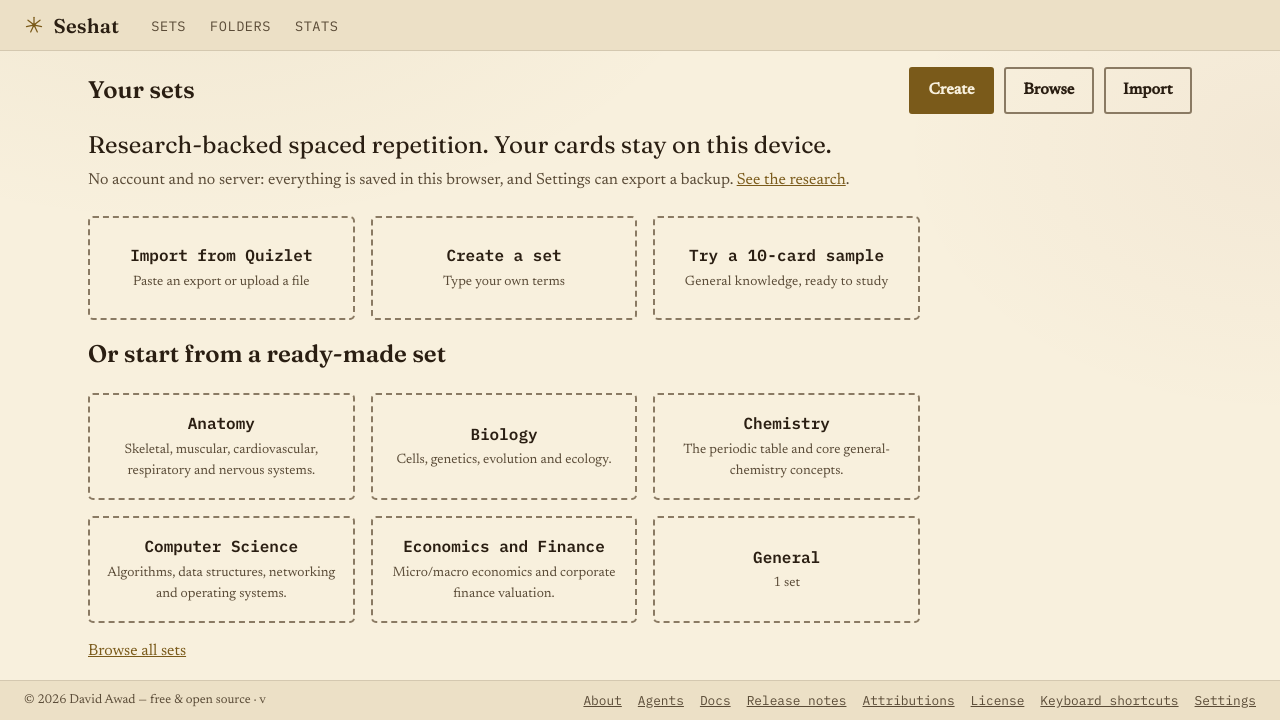
Test case: command palette › Enter navigates to the top match and closes the palette
Type keys "{Control>}k{/Control}"
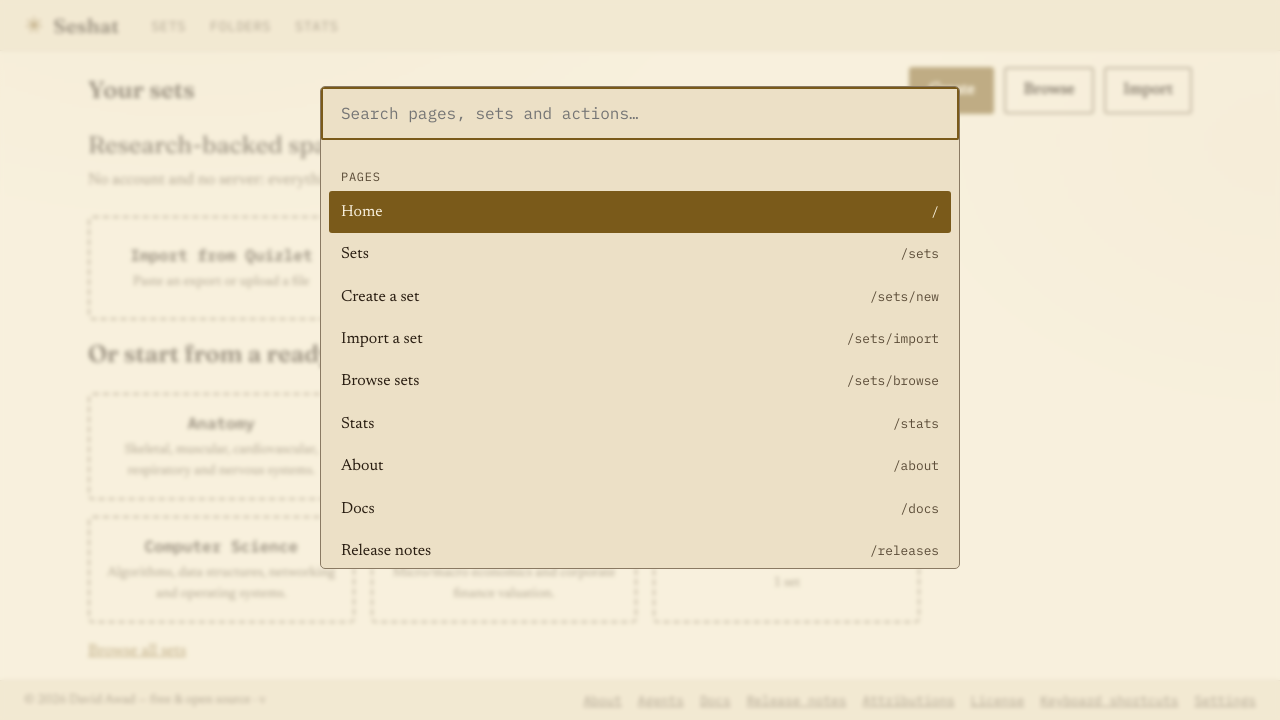
Type "stats" into the dropdown with test id "palette-input" at (640, 114), box [321,87,959,140]
Then press Enter
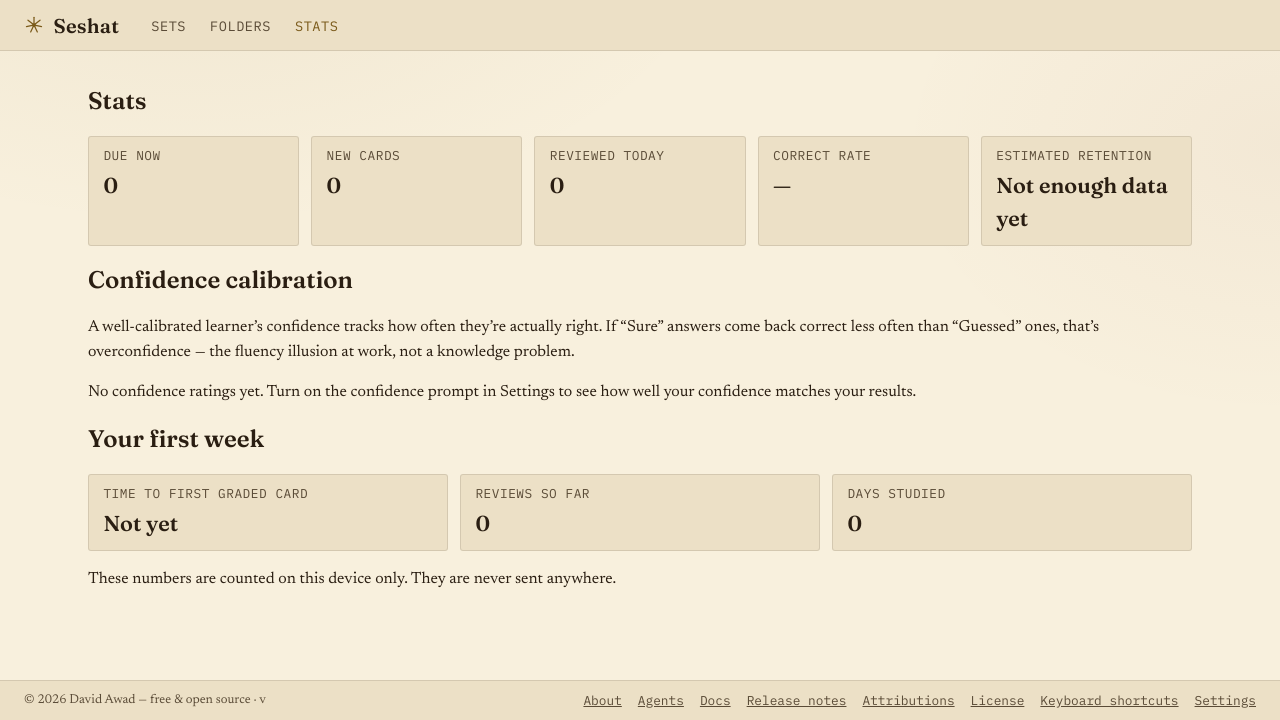
Expected: the element with test id "stats-page" is shown
